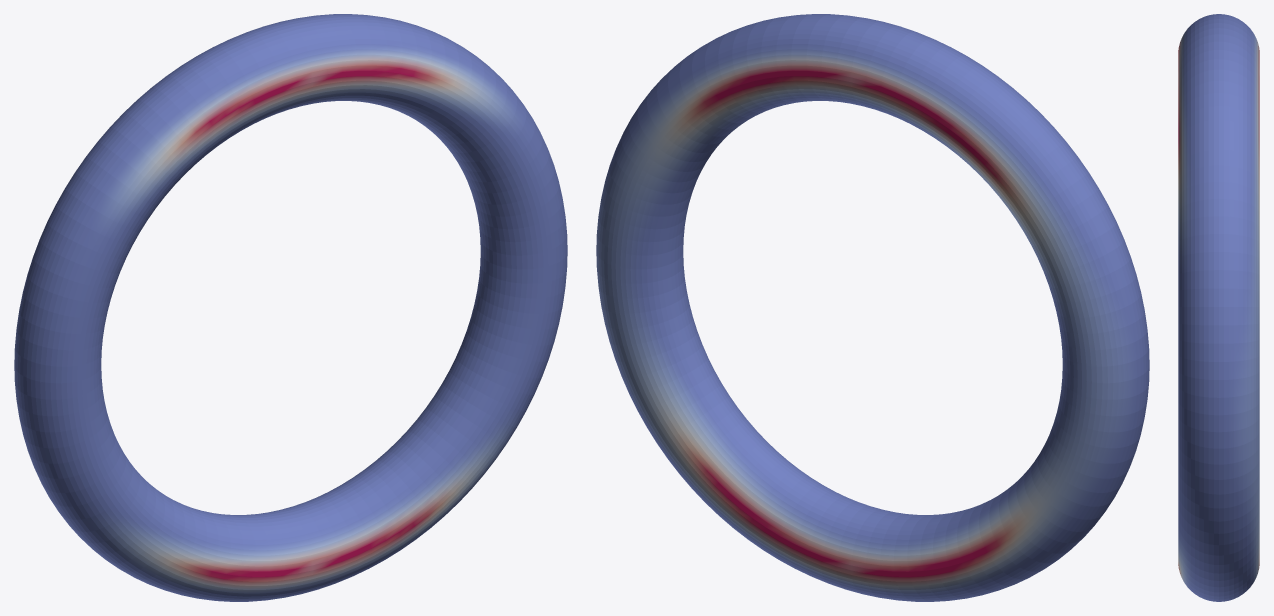
The picture shows the model from 3 angles, left to right: view 1: azimuth 30°, elevation 25°; view 2: azimuth 150°, elevation 25°; view 3: azimuth 270°, elevation 25°; orthographic projection. The views are drawn at different scales.
Parts seen in each view (by area): view 1: world; view 2: world; view 3: world.
Boxes of the visible parts, bbox=[...] form: world: bbox=[14, 14, 567, 601]; world: bbox=[596, 14, 1149, 601]; world: bbox=[1178, 14, 1259, 601].
Size of the model in its own units: 20.13 by 20.13 by 2.79.
